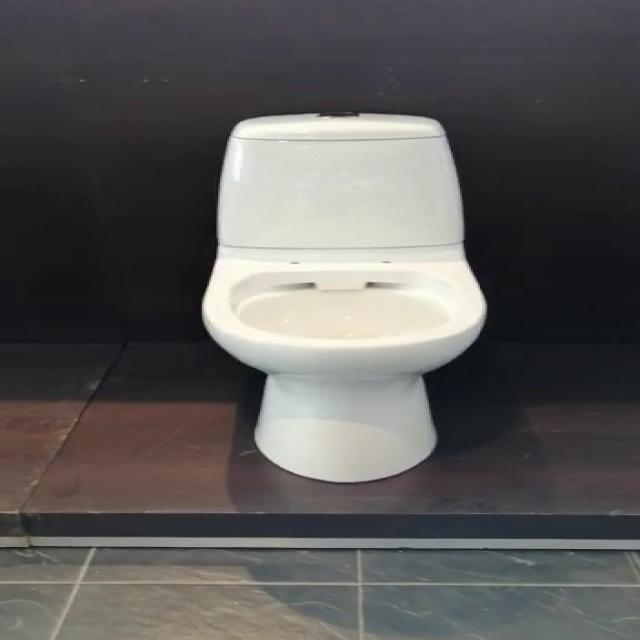toilet: (200, 110, 487, 482)
